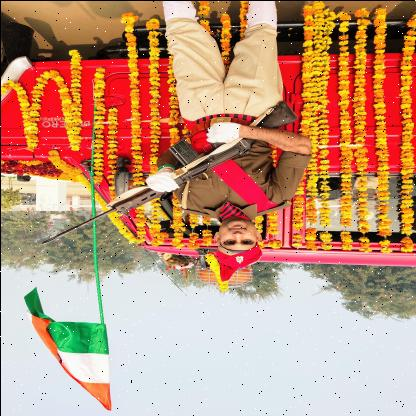rifle: (40, 99, 298, 245)
